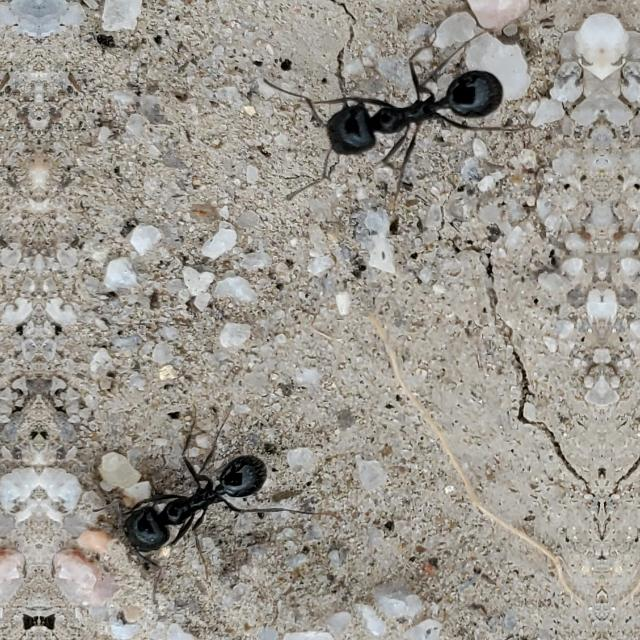Messor: (288, 51, 512, 167), (110, 434, 276, 582)
